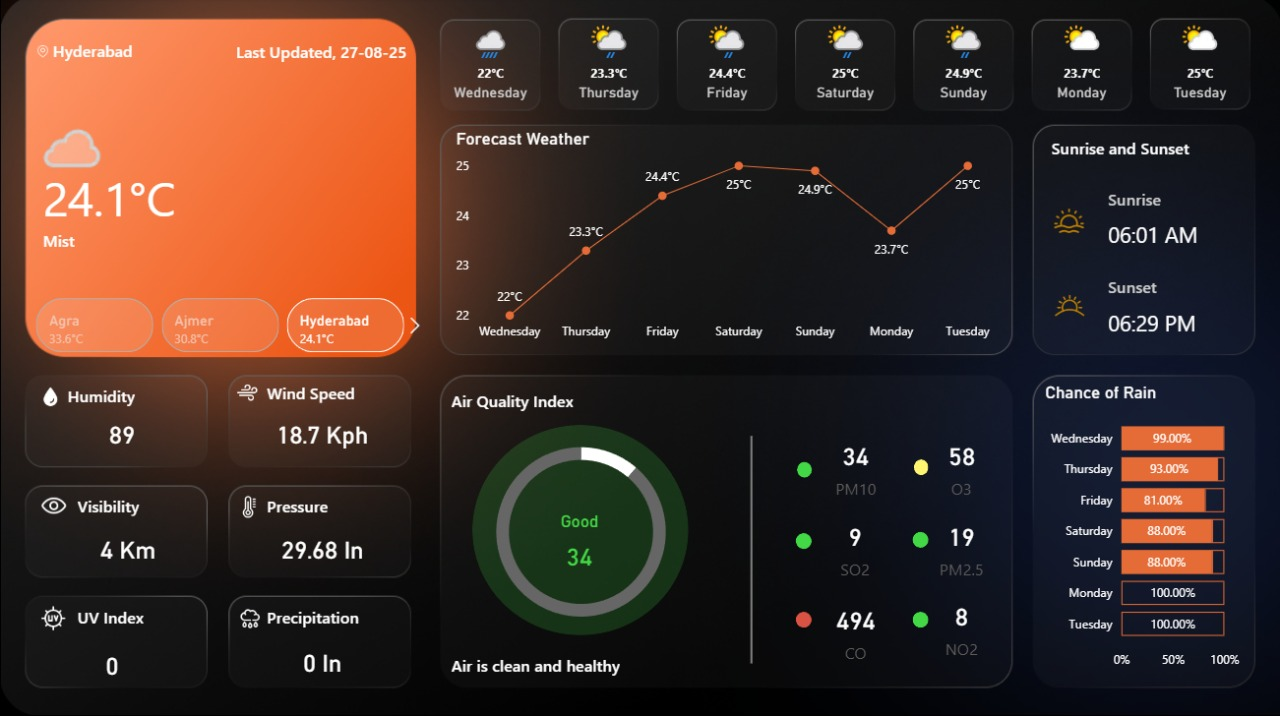

The page's visual inventory and layout, read from the dashboard file:
{"tool":"powerbi","page":{"name":"Page 1","canvas":[1280,720],"ordinal":0},"visuals":[{"type":"advancedSlicerVisual","fields":{"Values":["locations.location.name"]},"box":[11.4,295.7,418.6,64.3],"z":0},{"type":"shape","box":[42.9,158.6,192.9,82.9],"z":1000},{"type":"shape","box":[42.9,222.9,315.7,37.1],"z":2000},{"type":"shape","box":[52.9,34.3,158.6,37.1],"z":3000},{"type":"image","box":[31.4,41.4,21.4,24.3],"z":4000},{"type":"shape","box":[235.7,35.7,171.4,37.1],"z":5000},{"type":"cardVisual","fields":{"Data":["Min(current.current.condition.icon)"]},"box":[11.4,94.3,110,88.6],"z":6000},{"type":"image","box":[22.9,488.6,61.4,38.6],"z":7000},{"type":"shape","box":[77.1,488.6,111.4,37.1],"z":8000},{"type":"shape","box":[67.1,384.3,111.4,28.6],"z":9000},{"type":"shape","box":[265.7,375.7,111.4,37.1],"z":10000},{"type":"shape","box":[265.7,488.6,111.4,37.1],"z":11000},{"type":"shape","box":[77.1,600,111.4,37.1],"z":12000},{"type":"shape","box":[265.7,600,111.4,37.1],"z":13000},{"type":"image","box":[35.7,600,35.7,40],"z":14000},{"type":"image","box":[232.9,600,32.9,41.4],"z":15000},{"type":"image","box":[35.7,384.3,30,30],"z":16000},{"type":"image","box":[227.1,378.6,38.6,31.4],"z":17000},{"type":"image","box":[232.9,492.9,31.4,31.4],"z":18000},{"type":"card","fields":{"Values":["Sum(current.current.humidity)"]},"box":[45.7,410,152.9,54.3],"z":19000},{"type":"card","fields":{"Values":["_Measures.Wind_Speed"]},"box":[245.7,410,152.9,54.3],"z":20000},{"type":"card","fields":{"Values":["_Measures.Pressure"]},"box":[245.7,524.3,152.9,54.3],"z":21000},{"type":"card","fields":{"Values":["_Measures.Visibility"]},"box":[51.4,524.3,152.9,54.3],"z":22000},{"type":"card","fields":{"Values":["Sum(current.current.uv)"]},"box":[35.7,640,152.9,54.3],"z":23000},{"type":"card","fields":{"Values":["_Measures.precipitation"]},"box":[245.7,637.1,152.9,54.3],"z":24000},{"type":"advancedSlicerVisual","fields":{"Values":["forecast_day.Day_Name"]},"box":[429.5,16,833.1,100.6],"z":25000},{"type":"lineChart","title":"Forecast Weather","fields":{"Y":["Sum(forecast_day.forecast.forecastday.day.avgtemp_c)"],"Category":["forecast_day.Day_Name"]},"box":[450.3,131.3,550.9,220.9],"z":26000},{"type":"shape","box":[1105.5,269.9,111.7,38],"z":27000},{"type":"shape","box":[1105.5,182.8,111.7,36.8],"z":28000},{"type":"shape","box":[1049.1,131.3,154.6,38],"z":29000},{"type":"image","box":[1038,283.4,57.7,49.1],"z":30000},{"type":"image","box":[1045.4,203.7,42.9,39.3],"z":31000},{"type":"shape","box":[1105.5,219.6,144.8,33.1],"z":32000},{"type":"shape","box":[1105.5,308,93.3,33.1],"z":33000},{"type":"hundredPercentStackedBarChart","title":"Chance of Rain","fields":{"Category":["forecast_day.Day_Name"],"Y":["Sum(forecast_day.forecast.forecastday.day.daily_chance_of_rain)","_Measures.Left_Value_Rain"]},"box":[1038,384.1,203.7,295.7],"z":34000},{"type":"shape","box":[450.3,384.1,154.6,38],"z":35000},{"type":"card","fields":{"Values":["Sum(current.current.air_quality.pm10)"]},"box":[812.3,433.1,83.4,71.2],"z":36000},{"type":"card","fields":{"Values":["Sum(current.current.air_quality.no2)"]},"box":[917.8,593.9,83.4,69.9],"z":37000},{"type":"card","fields":{"Values":["Sum(current.current.air_quality.co)"]},"box":[812.3,597.5,83.4,69.9],"z":38000},{"type":"card","fields":{"Values":["Sum(current.current.air_quality.so2)"]},"box":[817.2,512.9,72.4,73.6],"z":39000},{"type":"card","fields":{"Values":["Sum(current.current.air_quality.pm2_5)"]},"box":[917.8,514.1,83.4,71.2],"z":40000},{"type":"card","fields":{"Values":["Sum(current.current.air_quality.o3)"]},"box":[917.8,433.1,83.4,71.2],"z":41000},{"type":"shape","box":[795.1,463.8,15,16],"z":42000},{"type":"shape","box":[793.9,613.5,16,16],"z":43000},{"type":"shape","box":[793.9,535,16,16],"z":44000},{"type":"shape","box":[911.7,461.4,14.7,16],"z":45000},{"type":"shape","box":[910.4,533.7,16,16],"z":46000},{"type":"shape","box":[910.4,613.5,16,16],"z":47000},{"type":"shape","box":[737.4,438,24.5,227],"z":48000},{"type":"card","fields":{"Values":["Sum(current.current.air_quality.pm10)"]},"box":[527.1,512.9,101.4,71.4],"z":49000},{"type":"shape","box":[471.4,427.1,215.7,210],"z":50000},{"type":"donutChart","fields":{"Y":["Sum(current.current.air_quality.pm10)","_Measures.Left_Value_PM10"]},"box":[387.1,422.9,384.3,221.4],"z":51000},{"type":"shape","box":[450,641.4,287.1,50],"z":52000}]}

Visuals, with their boxes in screenshot pixels (x1, y1, x2, y2), scaled from the page's 1280x720 canvas onto the 1280x716 screenshot:
advancedSlicerVisual - locations.location.name: crop(11, 294, 430, 358)
shape: crop(43, 158, 236, 240)
shape: crop(43, 222, 359, 259)
shape: crop(53, 34, 212, 71)
image: crop(31, 41, 53, 65)
shape: crop(236, 36, 407, 72)
cardVisual - Min(current.current.condition.icon): crop(11, 94, 121, 182)
image: crop(23, 486, 84, 524)
shape: crop(77, 486, 188, 523)
shape: crop(67, 382, 178, 411)
shape: crop(266, 374, 377, 411)
shape: crop(266, 486, 377, 523)
shape: crop(77, 597, 188, 634)
shape: crop(266, 597, 377, 634)
image: crop(36, 597, 71, 636)
image: crop(233, 597, 266, 638)
image: crop(36, 382, 66, 412)
image: crop(227, 376, 266, 408)
image: crop(233, 490, 264, 521)
card - Sum(current.current.humidity): crop(46, 408, 199, 462)
card - _Measures.Wind_Speed: crop(246, 408, 399, 462)
card - _Measures.Pressure: crop(246, 521, 399, 575)
card - _Measures.Visibility: crop(51, 521, 204, 575)
card - Sum(current.current.uv): crop(36, 636, 189, 690)
card - _Measures.precipitation: crop(246, 634, 399, 688)
advancedSlicerVisual - forecast_day.Day_Name: crop(430, 16, 1263, 116)
"Forecast Weather" lineChart: crop(450, 131, 1001, 350)
shape: crop(1106, 268, 1217, 306)
shape: crop(1106, 182, 1217, 218)
shape: crop(1049, 131, 1204, 168)
image: crop(1038, 282, 1096, 331)
image: crop(1045, 203, 1088, 242)
shape: crop(1106, 218, 1250, 251)
shape: crop(1106, 306, 1199, 339)
"Chance of Rain" hundredPercentStackedBarChart: crop(1038, 382, 1242, 676)
shape: crop(450, 382, 605, 420)
card - Sum(current.current.air_quality.pm10): crop(812, 431, 896, 501)
card - Sum(current.current.air_quality.no2): crop(918, 591, 1001, 660)
card - Sum(current.current.air_quality.co): crop(812, 594, 896, 664)
card - Sum(current.current.air_quality.so2): crop(817, 510, 890, 583)
card - Sum(current.current.air_quality.pm2_5): crop(918, 511, 1001, 582)
card - Sum(current.current.air_quality.o3): crop(918, 431, 1001, 501)
shape: crop(795, 461, 810, 477)
shape: crop(794, 610, 810, 626)
shape: crop(794, 532, 810, 548)
shape: crop(912, 459, 926, 475)
shape: crop(910, 531, 926, 547)
shape: crop(910, 610, 926, 626)
shape: crop(737, 436, 762, 661)
card - Sum(current.current.air_quality.pm10): crop(527, 510, 628, 581)
shape: crop(471, 425, 687, 634)
donutChart - Sum(current.current.air_quality.pm10) x _Measures.Left_Value_PM10: crop(387, 421, 771, 641)
shape: crop(450, 638, 737, 688)
